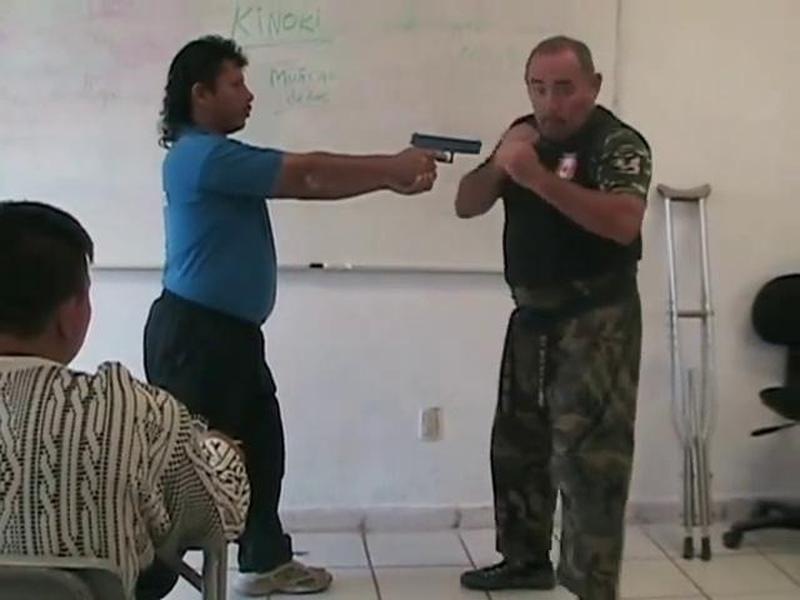Pistola: (407, 114, 487, 192)
